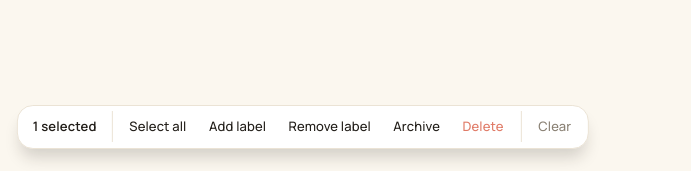
SelectionActionBar › Cancel on the confirm step reverts to the plain Delete button
What coordinates should you click on to do the following:
click the button "Delete"
I would click on:
 (483, 126)
Its box is [453, 111, 513, 142].
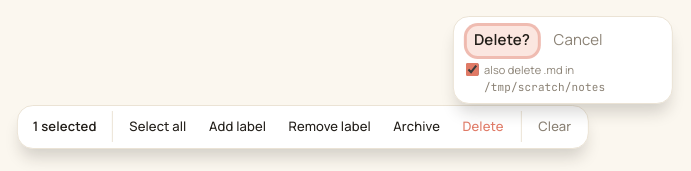
What coordinates should you click on to do the following:
click the menu item "Cancel"
I would click on:
 (578, 40)
Its box is [546, 26, 610, 56].
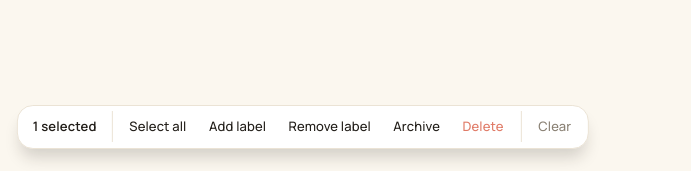
Check: the button "Delete" is shown, box [453, 111, 513, 142]
Check: the element with test id "bulk-delete-confirm-popover" is gone
